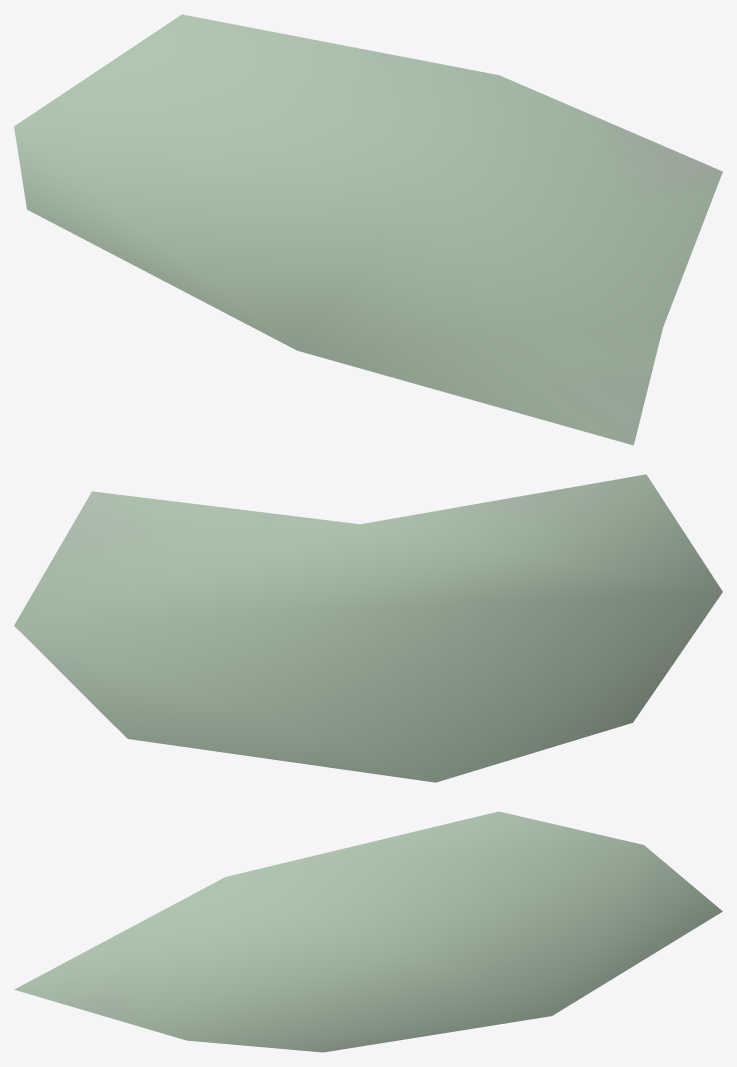
The model's file is TROLLHOLE02_HOLECAP38.fbx.
The picture shows the model from 3 angles, top to bottom: view 1: azimuth 30°, elevation 25°; view 2: azimuth 150°, elevation 25°; view 3: azimuth 270°, elevation 25°; orthographic projection. The views are drawn at different scales.
Visible parts, largest first — view 1: TROLLHOLE02_HOLECAP38; view 2: TROLLHOLE02_HOLECAP38; view 3: TROLLHOLE02_HOLECAP38.
Boxes of the visible parts, box(x1,y1,x2,y2) form: TROLLHOLE02_HOLECAP38: box(14, 14, 722, 445); TROLLHOLE02_HOLECAP38: box(14, 474, 722, 782); TROLLHOLE02_HOLECAP38: box(14, 811, 722, 1052).
Size of the model in its own units: 17985 by 2942 by 24121.
Materials: 1 (1 with a texture image).
